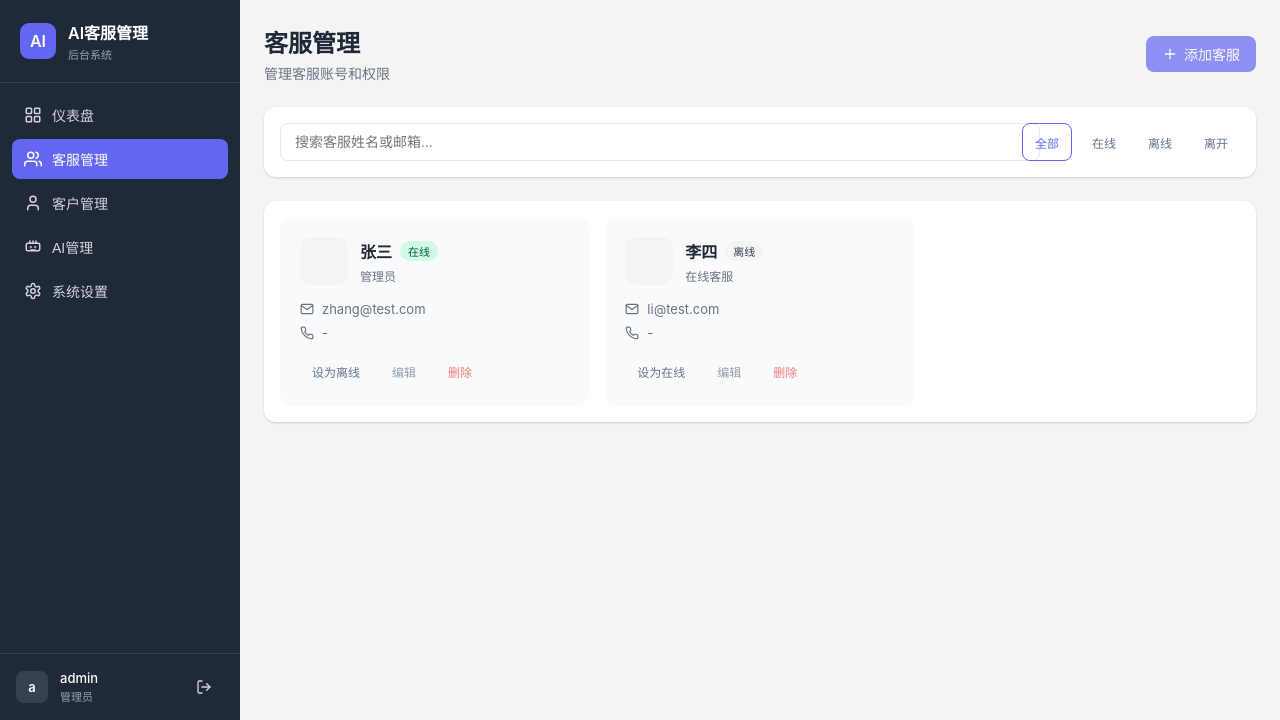
Scenario: AgentsPage 客服管理 › 按姓名/邮箱搜索过滤客服
Expected: the text "张三" is shown, [360, 238, 392, 262]
Type "李四" into the field with placeholder "搜索客服姓名或邮箱..." at (660, 142), box [280, 123, 1040, 161]
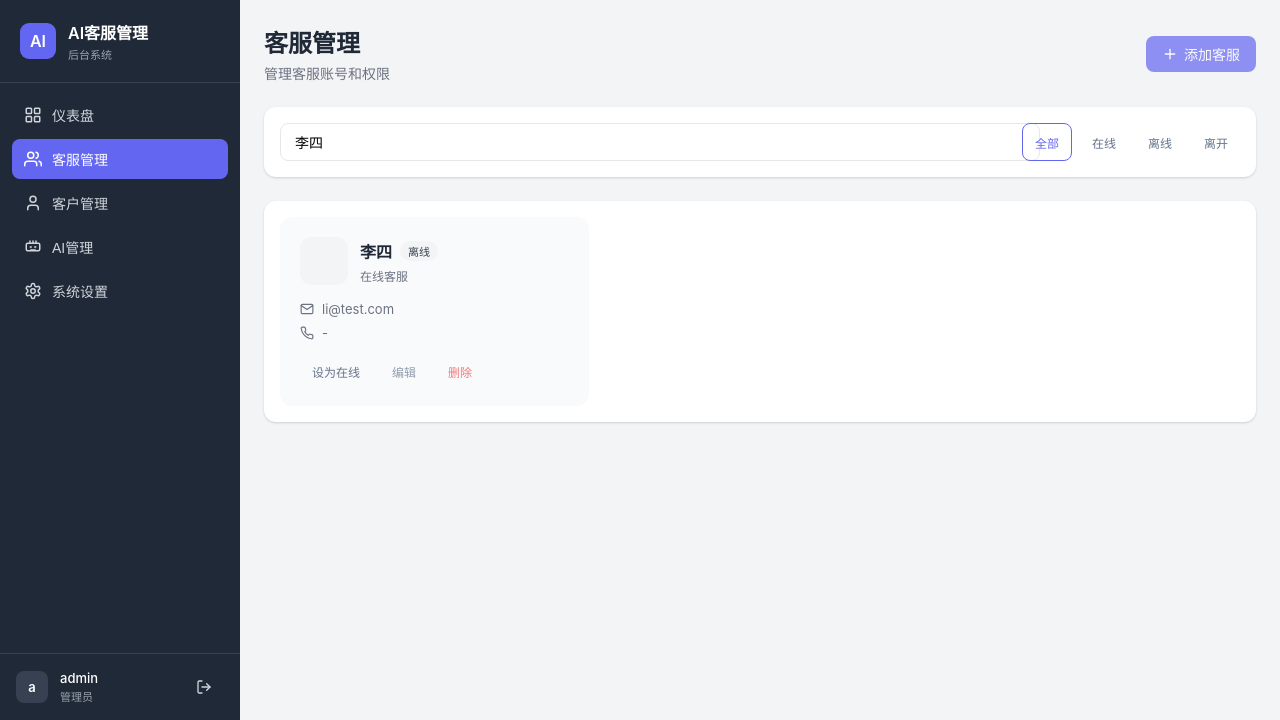
Expected: the text "李四" is shown, [360, 238, 392, 262]
Expected: the text "张三" is gone
